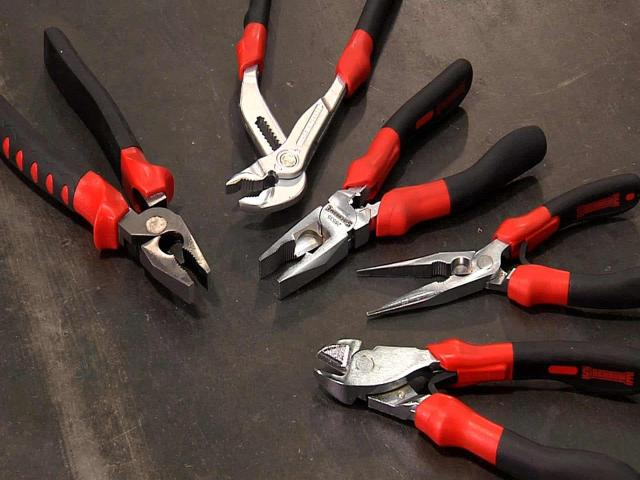Cutting pliers: (315, 338, 640, 478)
Gas wrench: (226, 0, 392, 213)
Needle-nose pliers: (358, 173, 640, 318)
Pliers: (259, 60, 546, 298), (0, 28, 210, 303)
